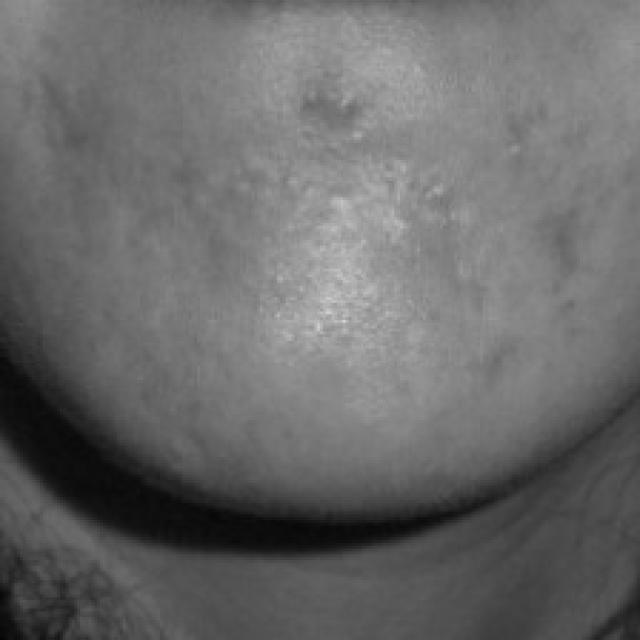Acne: (55, 54, 592, 391)
